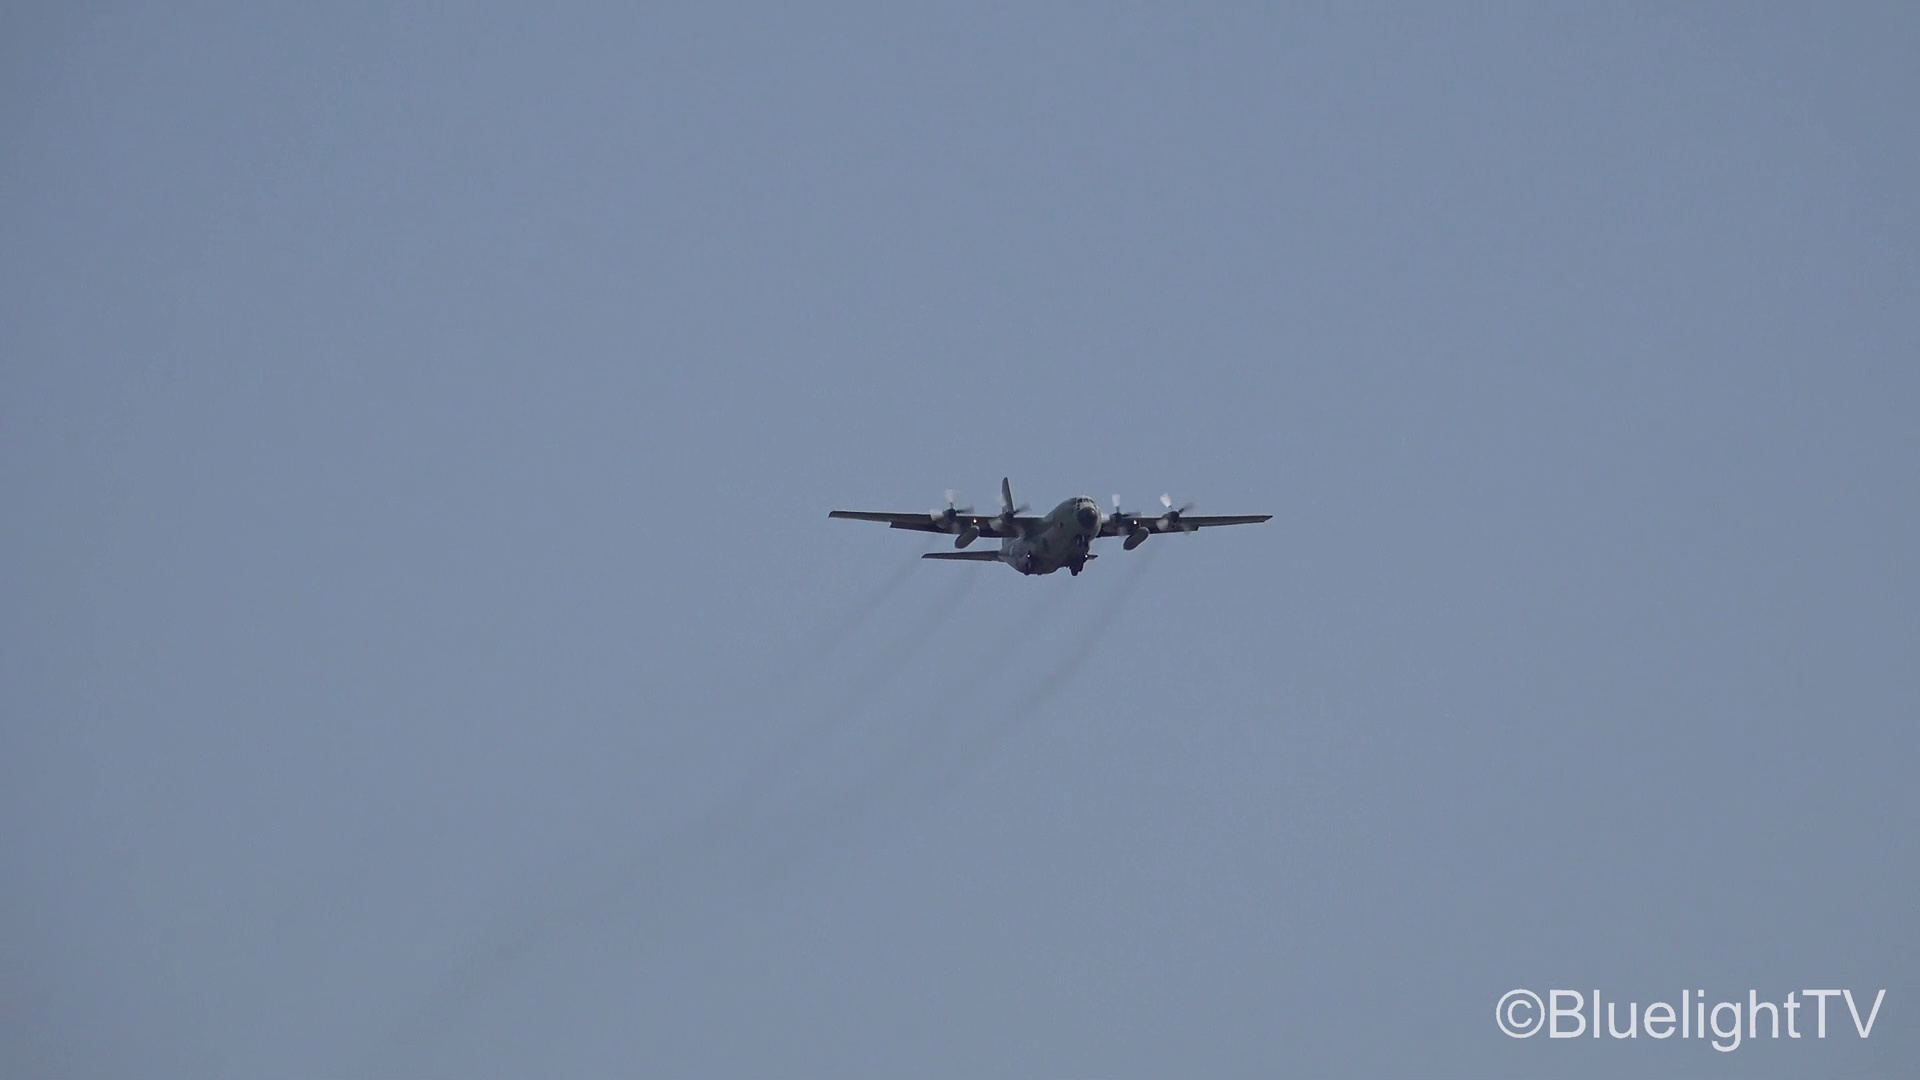Airplane: (816, 480, 1280, 583)
